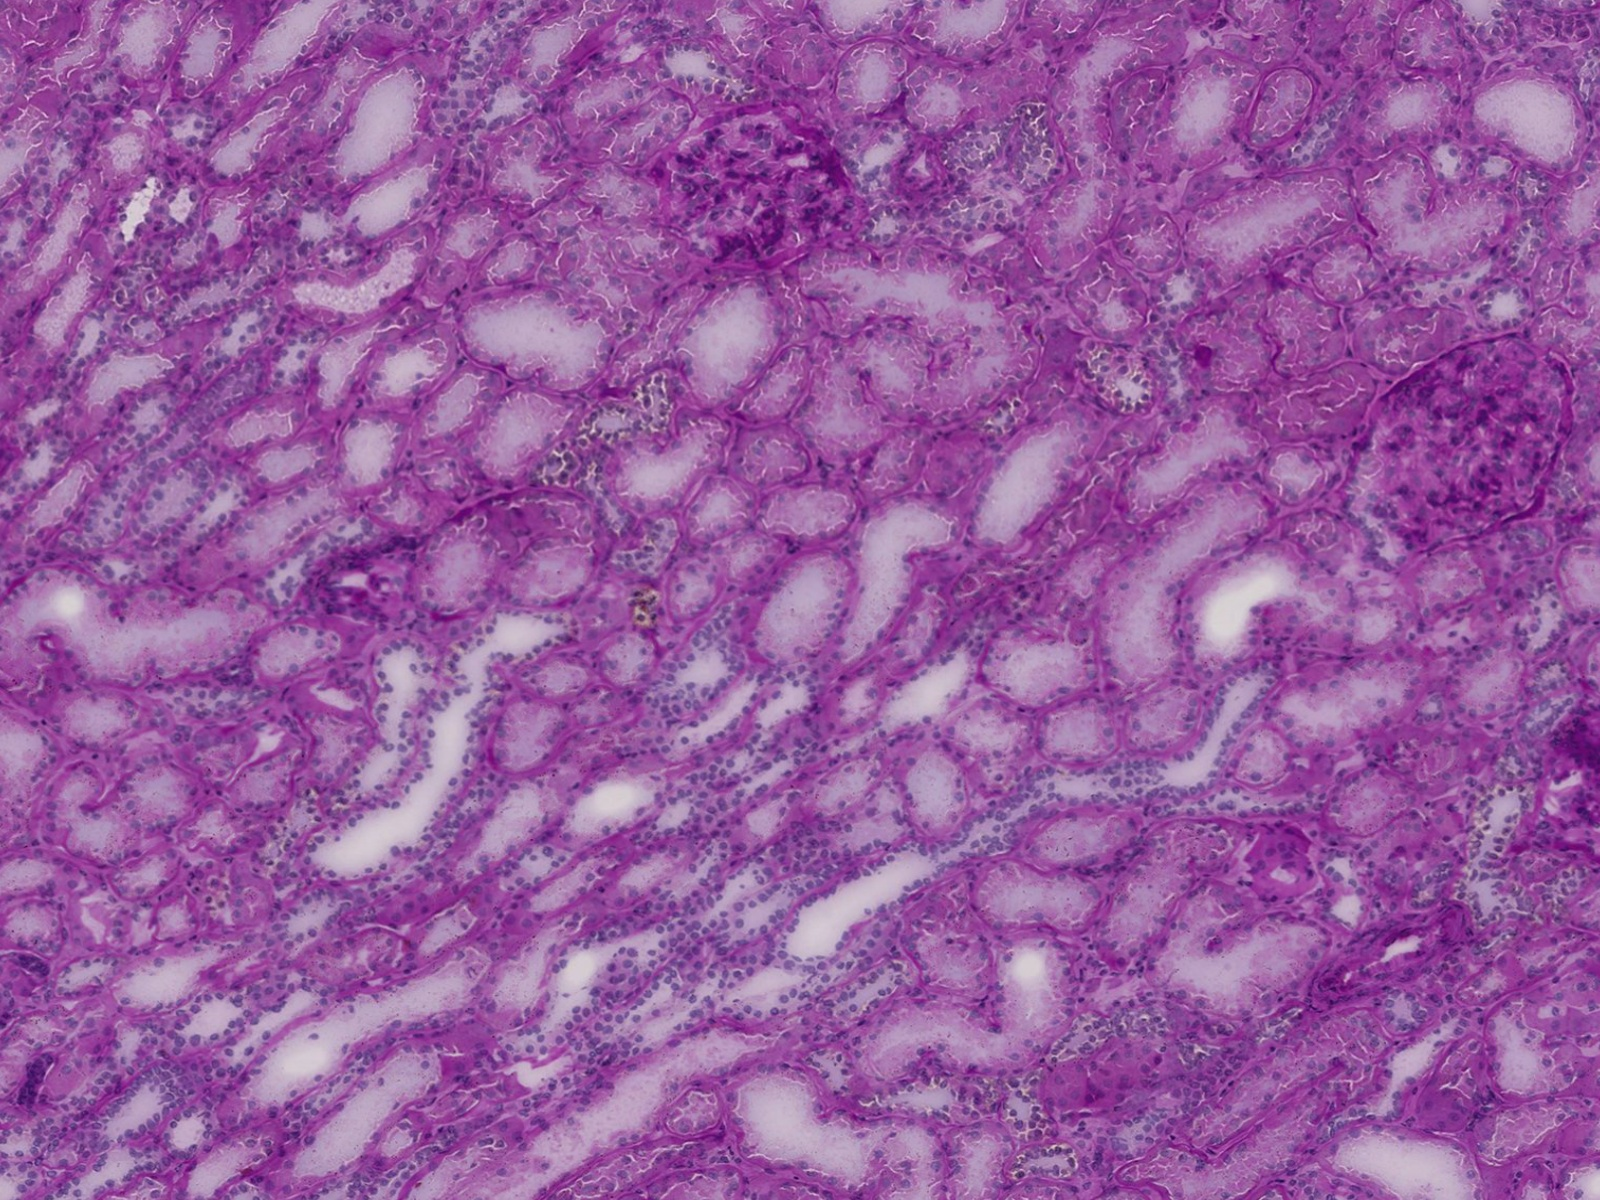Glomeruli: (1342, 332, 1574, 546), (651, 108, 866, 276)
